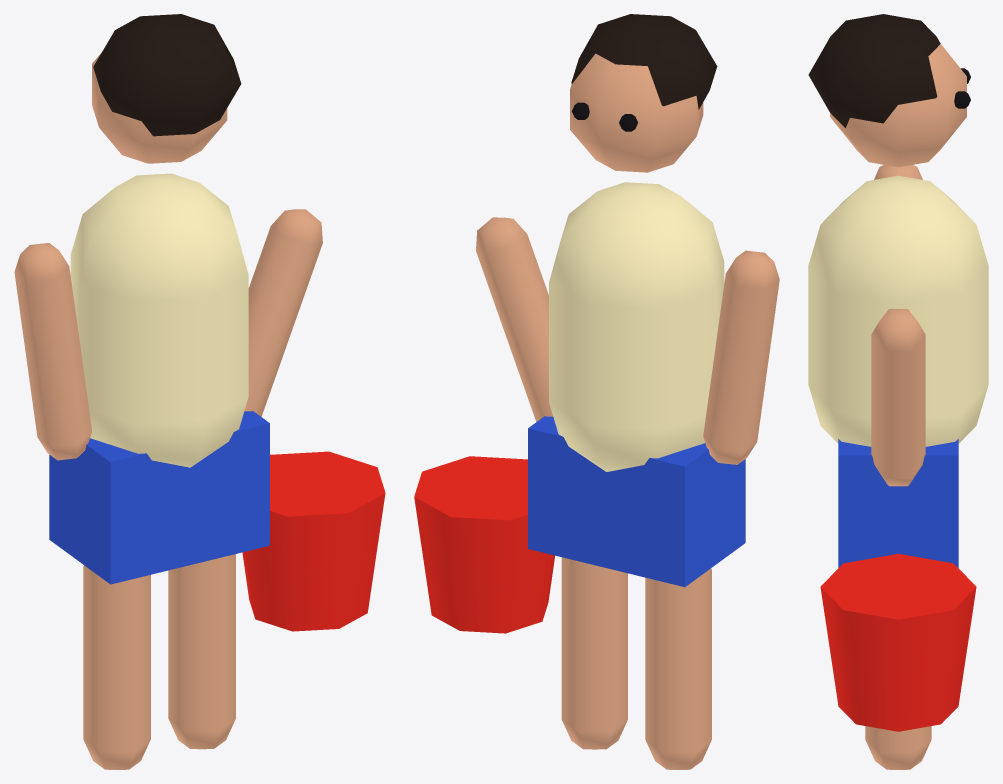
File: menino_em_pe.glb
3 renders of one model, left to right at view 1: azimuth 30°, elevation 25°; view 2: azimuth 150°, elevation 25°; view 3: azimuth 270°, elevation 25°, orthographic. The views are drawn at different scales.
Parts seen in each view (by area): view 1: _MeshInstance3D_5990_10, _MeshInstance3D_5991_9, _MeshInstance3D_6000_0, _MeshInstance3D_5997_3, _MeshInstance3D_5992_8, _MeshInstance3D_5993_7, _MeshInstance3D_5994_6, _MeshInstance3D_5995_5, _MeshInstance3D_5996_4; view 2: _MeshInstance3D_5990_10, _MeshInstance3D_5991_9, _MeshInstance3D_6000_0, _MeshInstance3D_5992_8, _MeshInstance3D_5993_7, _MeshInstance3D_5994_6, _MeshInstance3D_5996_4, _MeshInstance3D_5995_5, _MeshInstance3D_5997_3; view 3: _MeshInstance3D_5990_10, _MeshInstance3D_6000_0, _MeshInstance3D_5991_9, _MeshInstance3D_5997_3, _MeshInstance3D_5995_5, _MeshInstance3D_5996_4, _MeshInstance3D_5993_7, _MeshInstance3D_5994_6.
Part boxes in pixels (<box>): _MeshInstance3D_5990_10: <box>70,173,248,467</box>; _MeshInstance3D_5991_9: <box>49,411,269,584</box>; _MeshInstance3D_6000_0: <box>242,451,385,631</box>; _MeshInstance3D_5997_3: <box>93,14,241,136</box>; _MeshInstance3D_5992_8: <box>83,565,150,769</box>; _MeshInstance3D_5993_7: <box>168,554,235,749</box>; _MeshInstance3D_5994_6: <box>14,243,91,460</box>; _MeshInstance3D_5995_5: <box>244,209,322,416</box>; _MeshInstance3D_5996_4: <box>92,53,227,163</box>; _MeshInstance3D_5990_10: <box>549,182,724,471</box>; _MeshInstance3D_5991_9: <box>528,416,745,587</box>; _MeshInstance3D_6000_0: <box>414,456,554,633</box>; _MeshInstance3D_5992_8: <box>645,568,711,769</box>; _MeshInstance3D_5993_7: <box>561,557,627,749</box>; _MeshInstance3D_5994_6: <box>703,250,779,464</box>; _MeshInstance3D_5996_4: <box>570,53,703,172</box>; _MeshInstance3D_5995_5: <box>476,217,553,421</box>; _MeshInstance3D_5997_3: <box>571,14,717,109</box>; _MeshInstance3D_5990_10: <box>808,175,988,446</box>; _MeshInstance3D_6000_0: <box>820,553,976,731</box>; _MeshInstance3D_5991_9: <box>838,439,958,567</box>; _MeshInstance3D_5997_3: <box>808,14,940,127</box>; _MeshInstance3D_5995_5: <box>871,309,925,486</box>; _MeshInstance3D_5996_4: <box>830,44,966,167</box>; _MeshInstance3D_5993_7: <box>865,726,931,769</box>; _MeshInstance3D_5994_6: <box>874,165,922,179</box>.
Bounding box in the file's own units: 0.6702 × 1.34 × 0.3.
